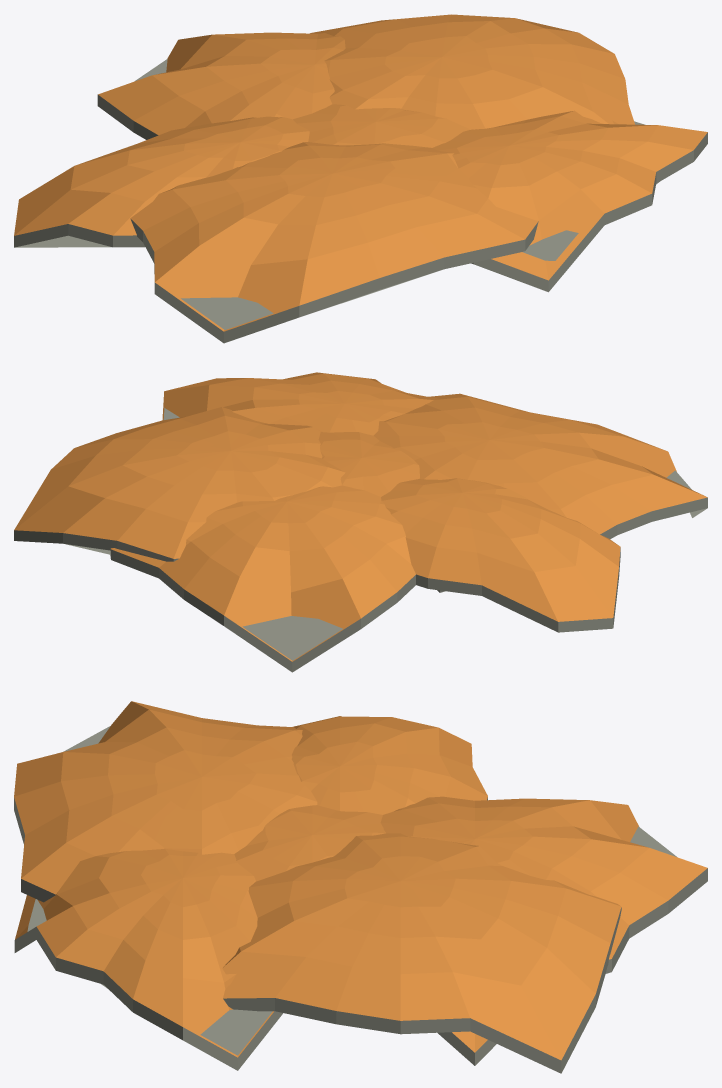
Rendered from LAVA_EDGE_LICHEN.hi.glb.
The picture shows the model from 3 angles, top to bottom: view 1: azimuth 30°, elevation 25°; view 2: azimuth 150°, elevation 25°; view 3: azimuth 270°, elevation 25°; orthographic projection. The views are drawn at different scales.
Parts seen in each view (by area): view 1: LAVA_EDGE_LICHEN; view 2: LAVA_EDGE_LICHEN; view 3: LAVA_EDGE_LICHEN.
Boxes of the visible parts, box(x1,y1,x2,y2) form: LAVA_EDGE_LICHEN: box(14, 14, 707, 343); LAVA_EDGE_LICHEN: box(14, 372, 707, 672); LAVA_EDGE_LICHEN: box(14, 701, 707, 1073).
Bounding box in the file's own units: 0.4782 × 0.0848 × 0.4251.
Materials: 1 (1 with a texture image).
